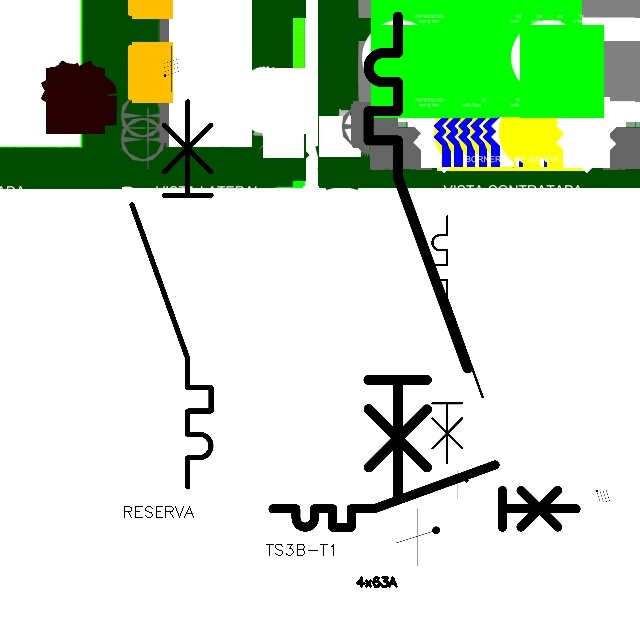interruptor_termomagnetico: (356, 4, 479, 509), (122, 91, 221, 497), (265, 457, 583, 535), (426, 210, 489, 470)
